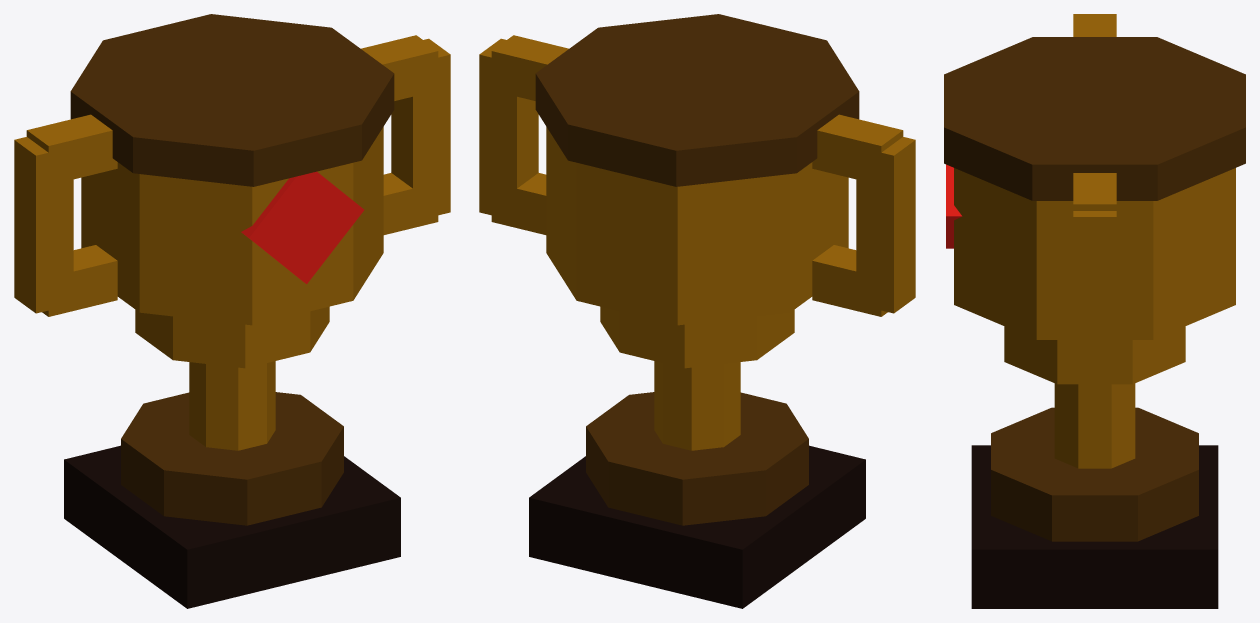
The model's file is CopaCampeon_low.fbx.
The picture shows the model from 3 angles, left to right: view 1: azimuth 30°, elevation 25°; view 2: azimuth 150°, elevation 25°; view 3: azimuth 270°, elevation 25°; orthographic projection.
Parts seen in each view (by area): view 1: CopaCampeon_low; view 2: CopaCampeon_low; view 3: CopaCampeon_low.
Boxes of the visible parts, x1=… form: CopaCampeon_low: x1=14, y1=14, x2=450, y2=608; CopaCampeon_low: x1=479, y1=14, x2=915, y2=608; CopaCampeon_low: x1=944, y1=14, x2=1245, y2=608.
Size of the model in its own units: 66 by 69.25 by 41.57.
